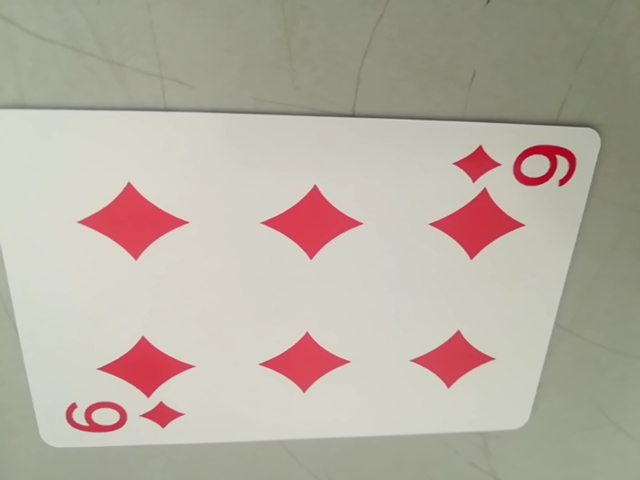fk 6: (56, 393, 190, 446), (453, 137, 577, 192)
